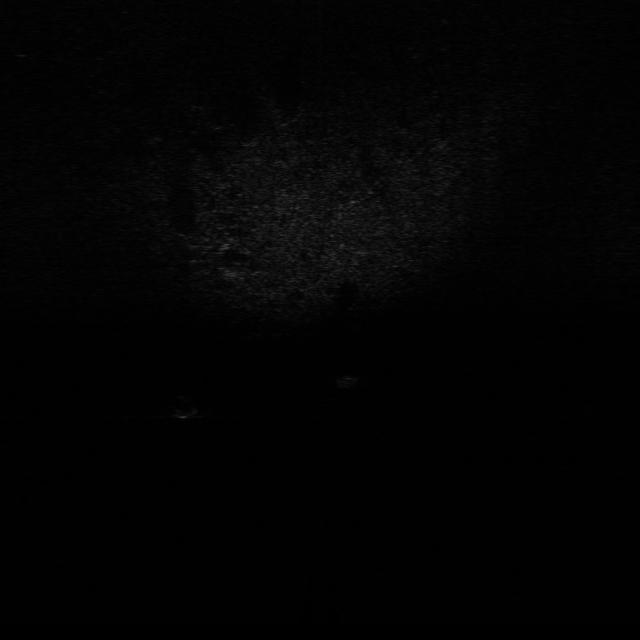ball: (162, 394, 204, 422)
cube: (334, 370, 364, 389)
